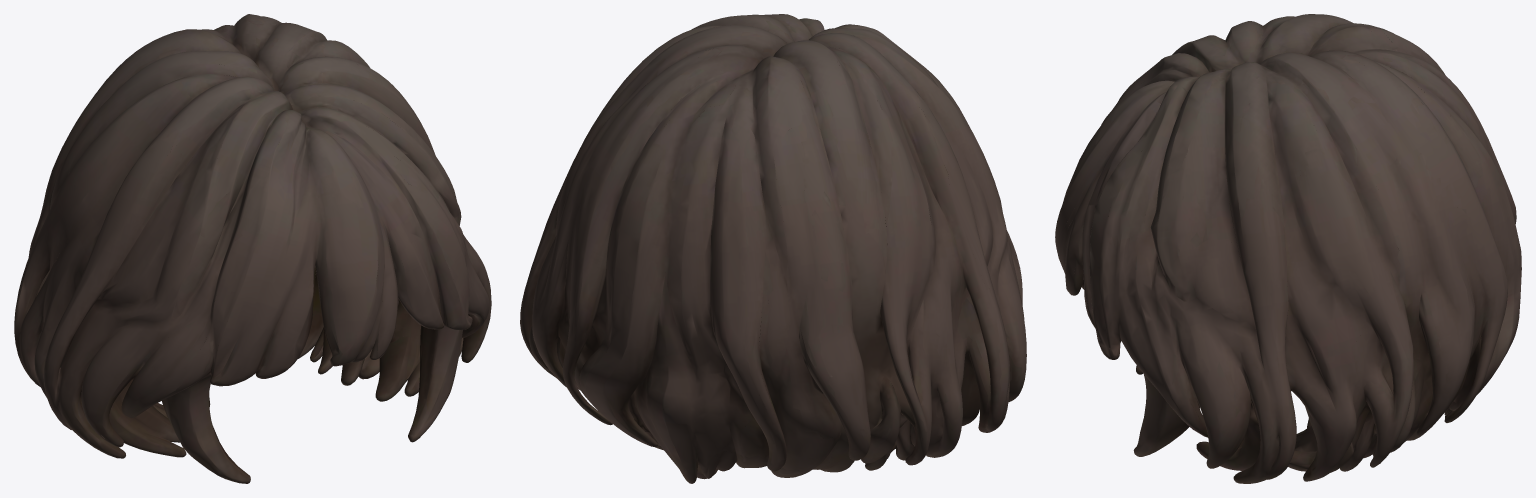
Rendered from hair_f02.glb.
The picture shows the model from 3 angles, left to right: view 1: azimuth 30°, elevation 25°; view 2: azimuth 150°, elevation 25°; view 3: azimuth 270°, elevation 25°; orthographic projection. The views are drawn at different scales.
Parts seen in each view (by area): view 1: hair; view 2: hair; view 3: hair.
Part boxes in pixels (x1,y1,x2,y2): hair: (14, 14, 491, 483); hair: (520, 14, 1026, 483); hair: (1055, 14, 1521, 483).
Size of the model in its own units: 2.62 by 2.17 by 2.4.
1 material, 1 textured.
